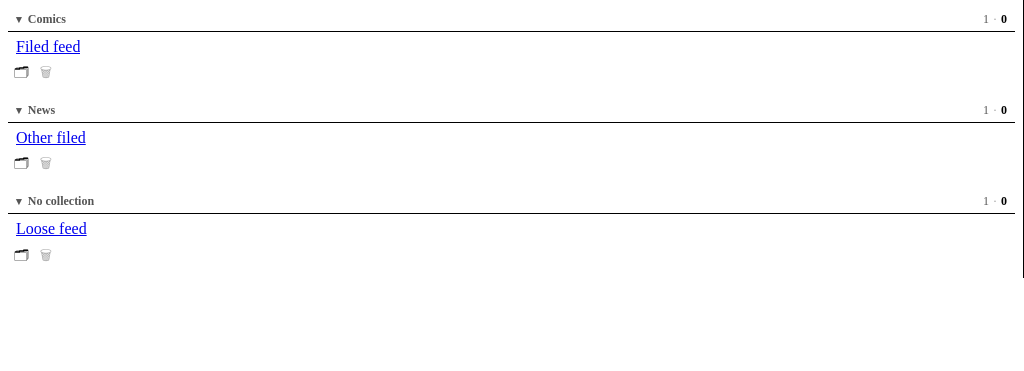
FeedSidebar — moving a feed into a collection › closes the remove confirmation when the move picker opens
Click the button named "Remove Loose feed" at point(46, 255), box [35,244,57,266]
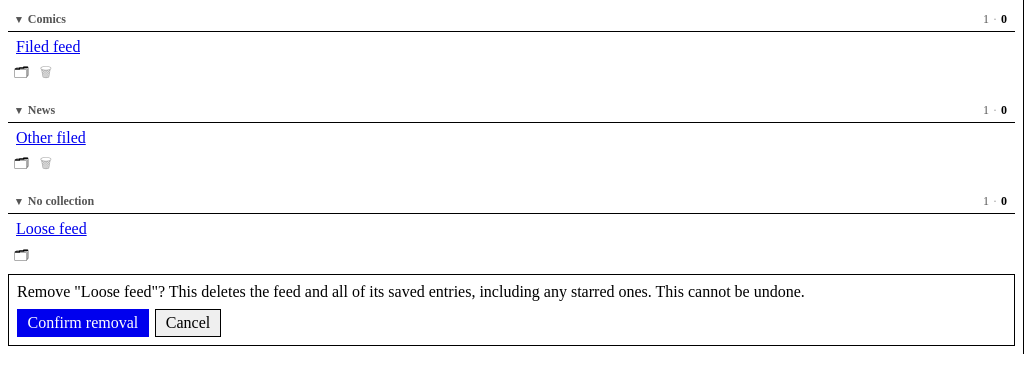
Now the button "Confirm removal" is shown, box [17,309,149,337]
Click the 3rd button "🗂" at point(22, 257), box [8,244,35,270]
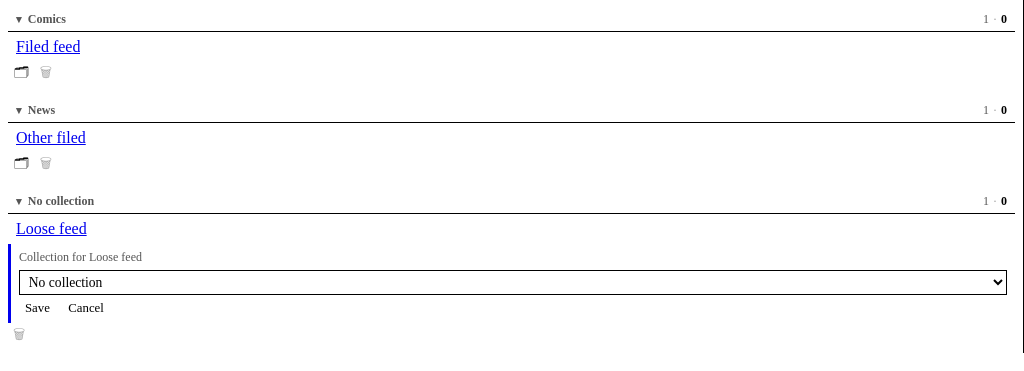
Now the button "Confirm removal" is gone
